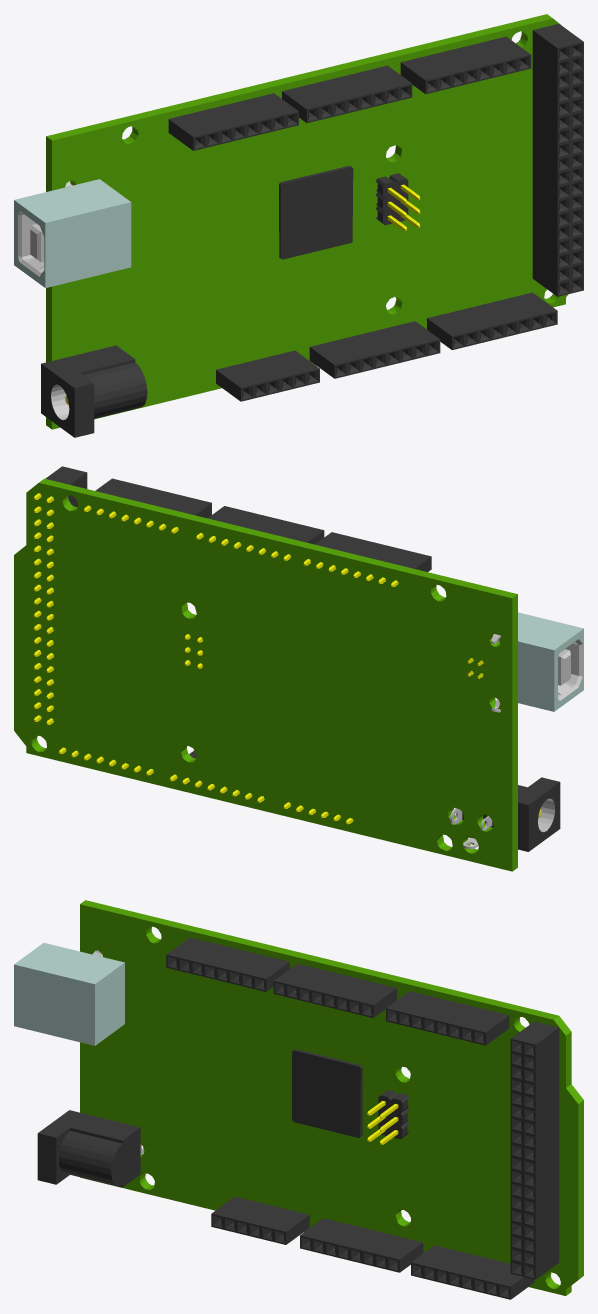
Rendered from arduino-mega.glb.
The picture shows the model from 3 angles, top to bottom: view 1: azimuth 30°, elevation 25°; view 2: azimuth 150°, elevation 25°; view 3: azimuth 330°, elevation 25°; orthographic projection. The views are drawn at different scales.
Visible parts, largest first — view 1: part0, part2, part4, part1, part5; view 2: part0, part2, part4, part5, part1; view 3: part0, part2, part4, part5.
Part boxes in pixels (x1,y1,x2,y2): part0: [46, 14, 567, 429]; part2: [41, 23, 583, 437]; part4: [14, 179, 131, 288]; part1: [18, 181, 72, 420]; part5: [387, 184, 420, 230]; part0: [14, 478, 517, 871]; part2: [45, 466, 560, 851]; part4: [498, 612, 583, 711]; part5: [34, 493, 483, 824]; part1: [450, 634, 582, 848]; part0: [80, 900, 583, 1295]; part2: [37, 937, 559, 1299]; part4: [14, 943, 124, 1045]; part5: [367, 1101, 398, 1144].
Bounding box in the file's own units: 0.1088 × 0.0532 × 0.0148.
